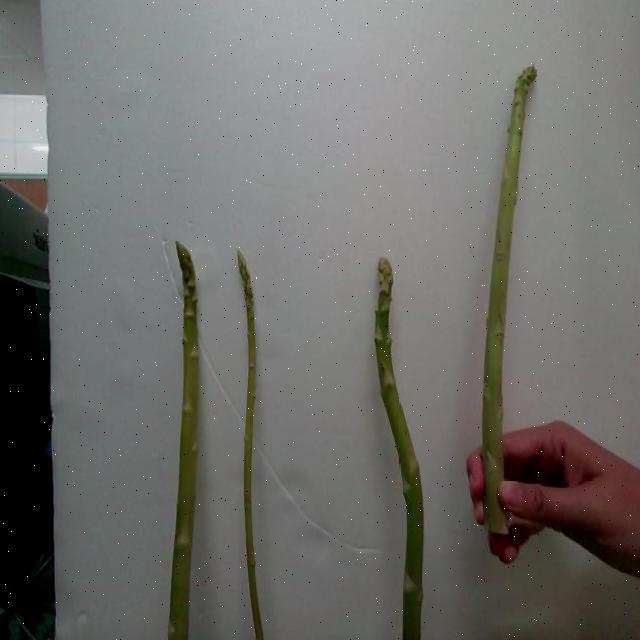aspargus: (482, 68, 538, 539), (375, 260, 424, 640), (166, 247, 199, 640), (233, 253, 265, 640)
